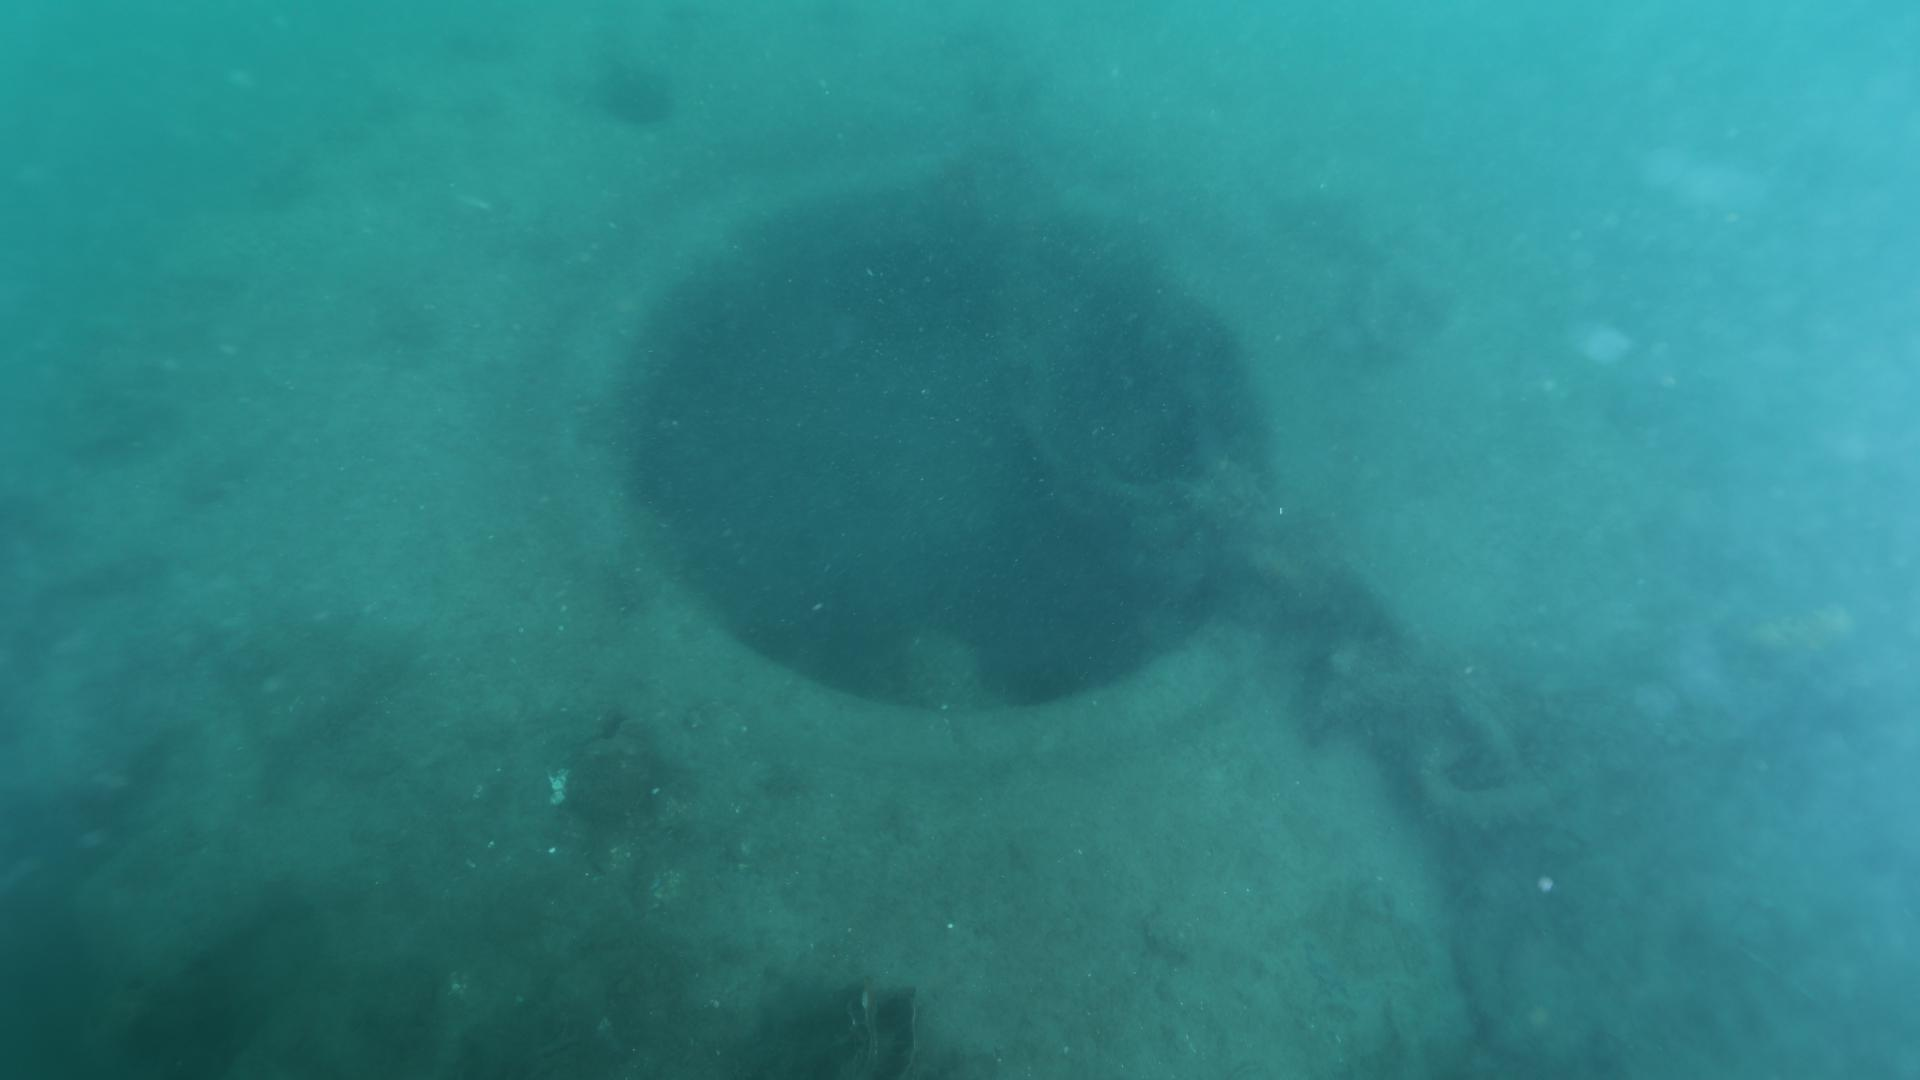tire: (0, 0, 1658, 1080)
